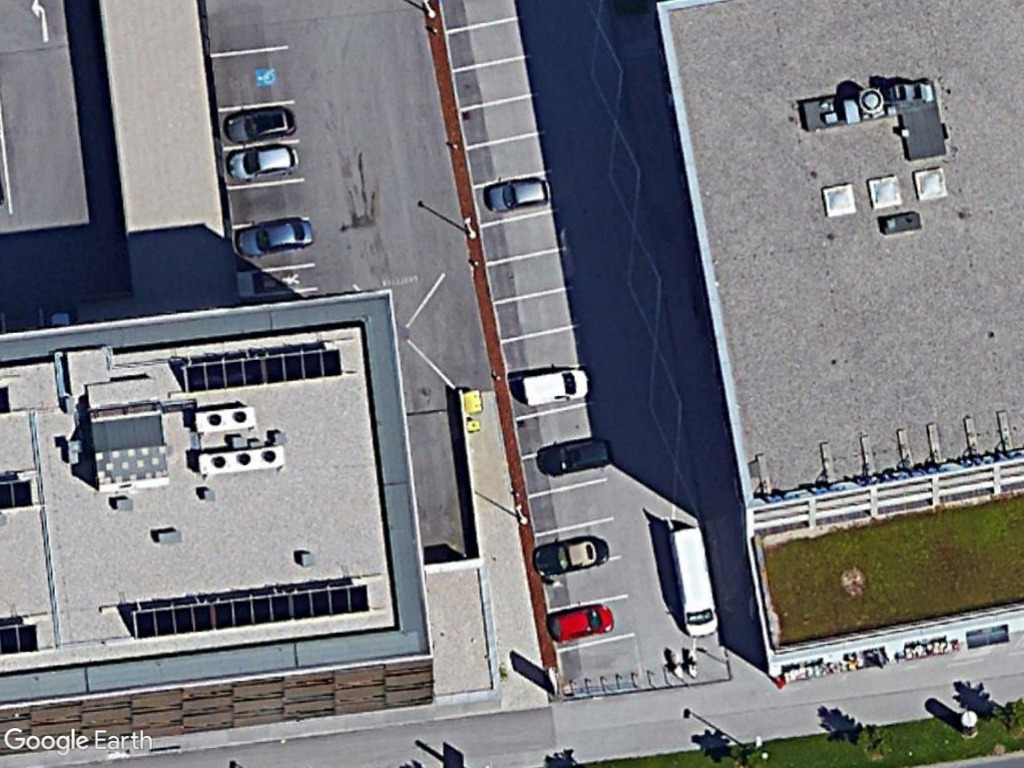car: (528, 531, 614, 581), (231, 213, 316, 260), (219, 101, 297, 147), (541, 601, 618, 647), (480, 172, 555, 217), (227, 142, 304, 185)
van: (668, 523, 719, 643), (516, 363, 593, 410)
